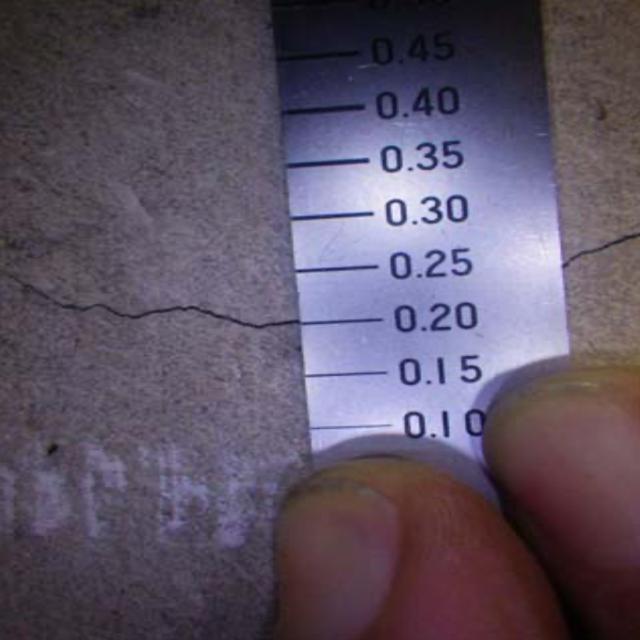crack: (7, 261, 293, 350), (566, 213, 636, 293)
